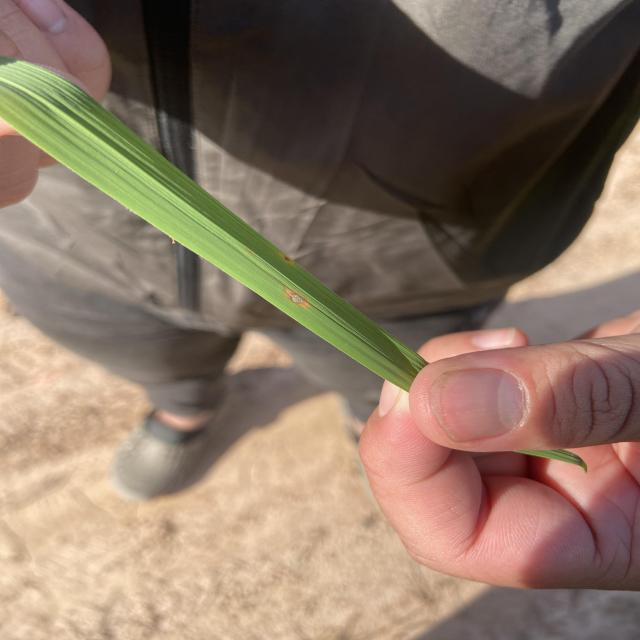Dao on: (287, 291, 306, 304)
